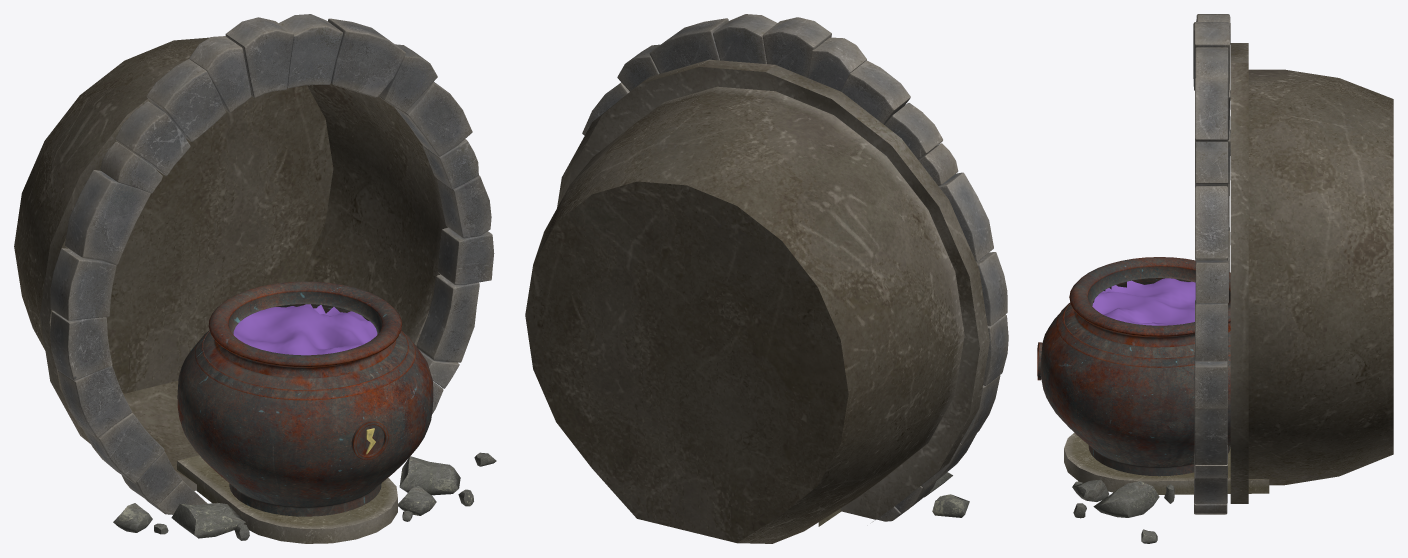
The model's file is Cauldron.fbx.
The picture shows the model from 3 angles, left to right: view 1: azimuth 30°, elevation 25°; view 2: azimuth 150°, elevation 25°; view 3: azimuth 270°, elevation 25°; orthographic projection. The views are drawn at different scales.
Parts seen in each view (by area): view 1: Arch, Body, Pedestal, Liquid, Boulder16, Boulder1, Boulder14, Boulder9, Boulder17, Boulder3, Boulder2, Boulder18 (+19 smaller); view 2: Arch, Boulder3, Boulder14, Boulder1, Boulder16, Boulder2, Boulder13, Boulder15, Boulder17, Boulder18, Boulder4, Boulder23 (+3 smaller); view 3: Arch, Body, Liquid, Pedestal, Boulder5, Boulder1, Boulder7, Boulder9, Belt, Boulder8, Rock7, Boulder4 (+6 smaller).
Boxes of the visible parts, box(x1,y1,x2,y2) form: Arch: box(14, 37, 447, 490); Body: box(177, 281, 433, 516); Pedestal: box(177, 455, 397, 543); Liquid: box(233, 304, 377, 355); Boulder16: box(65, 170, 150, 265); Boulder1: box(328, 18, 405, 97); Boulder14: box(146, 59, 225, 141); Boulder9: box(416, 274, 479, 362); Boulder17: box(50, 248, 116, 320); Boulder3: box(225, 17, 293, 97); Boulder2: box(279, 14, 342, 88); Boulder18: box(50, 311, 112, 380); Arch: box(525, 59, 989, 543); Boulder3: box(762, 17, 831, 77); Boulder14: box(840, 60, 910, 124); Boulder1: box(649, 18, 728, 73); Boulder16: box(938, 172, 993, 261); Boulder2: box(713, 14, 777, 63); Boulder13: box(807, 37, 866, 91); Boulder15: box(884, 103, 942, 159); Boulder17: box(976, 252, 1007, 325); Boulder18: box(983, 314, 1008, 385); Boulder4: box(617, 44, 659, 91); Boulder23: box(918, 143, 958, 185); Arch: box(1230, 43, 1393, 503); Body: box(1040, 257, 1230, 476); Liquid: box(1092, 278, 1195, 325); Pedestal: box(1064, 433, 1269, 494); Boulder5: box(1195, 186, 1228, 261); Boulder1: box(1195, 77, 1228, 142); Boulder7: box(1195, 300, 1228, 361); Boulder9: box(1194, 408, 1227, 464); Belt: box(1056, 278, 1230, 367); Boulder8: box(1194, 352, 1227, 409); Rock7: box(1093, 481, 1159, 517); Boulder4: box(1195, 141, 1228, 187).
Size of the model in its own units: 548 by 566 by 425.
